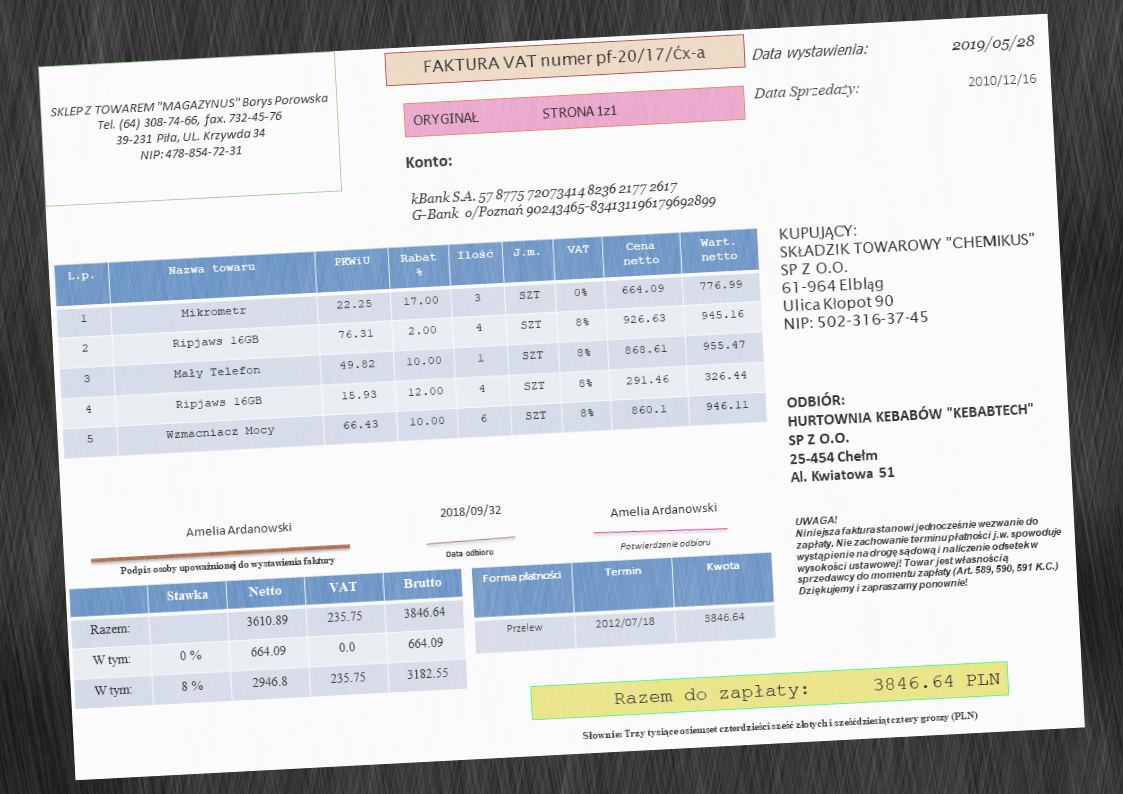Table: (51, 226, 769, 460), (67, 566, 467, 710), (470, 551, 777, 655)
TextBox: (775, 211, 1042, 333), (784, 379, 1040, 486), (792, 501, 1066, 597), (48, 89, 333, 167), (408, 174, 720, 226), (612, 670, 1002, 710), (580, 708, 979, 743), (421, 41, 708, 77), (412, 101, 619, 129), (117, 552, 336, 578), (750, 38, 870, 65), (751, 79, 862, 103), (184, 519, 293, 540), (949, 31, 1037, 56), (608, 501, 719, 519), (617, 535, 713, 553), (966, 70, 1038, 89), (438, 502, 502, 521), (403, 151, 453, 172), (443, 546, 494, 560)
